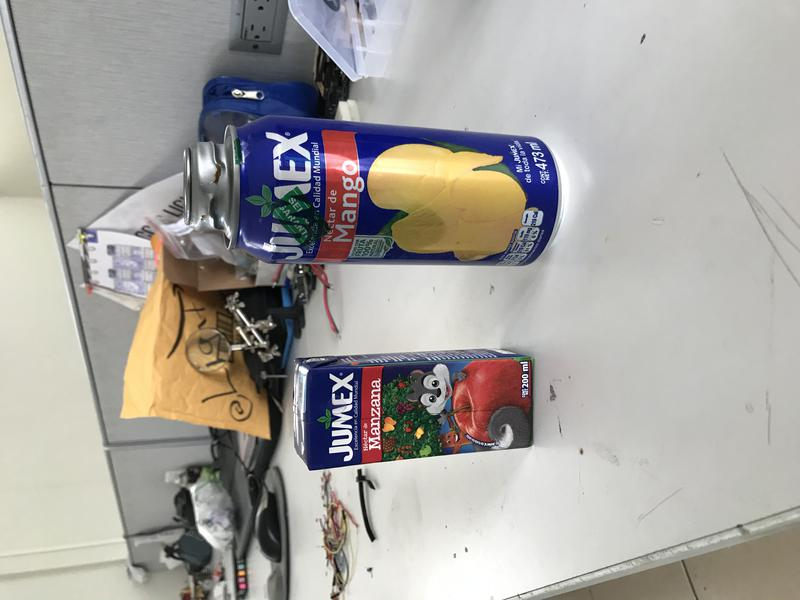jumex_botella: (183, 114, 566, 267)
jumex_cajita: (291, 345, 536, 470)
